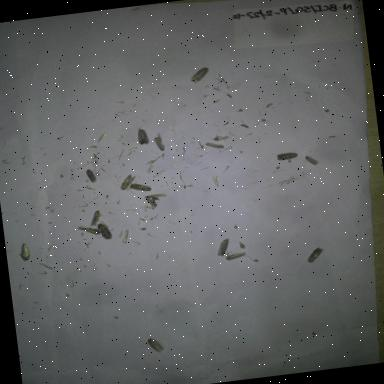pbw: (212, 235, 238, 259), (72, 221, 104, 240), (305, 244, 330, 268), (82, 164, 108, 186), (186, 64, 214, 84), (132, 124, 154, 148), (14, 238, 36, 262), (223, 249, 252, 267), (144, 333, 166, 356), (95, 220, 115, 243), (85, 206, 108, 226), (273, 148, 301, 164), (200, 139, 228, 155), (118, 169, 138, 191), (301, 151, 324, 168), (128, 179, 154, 194), (142, 192, 162, 210), (152, 134, 170, 152), (210, 130, 234, 142)
